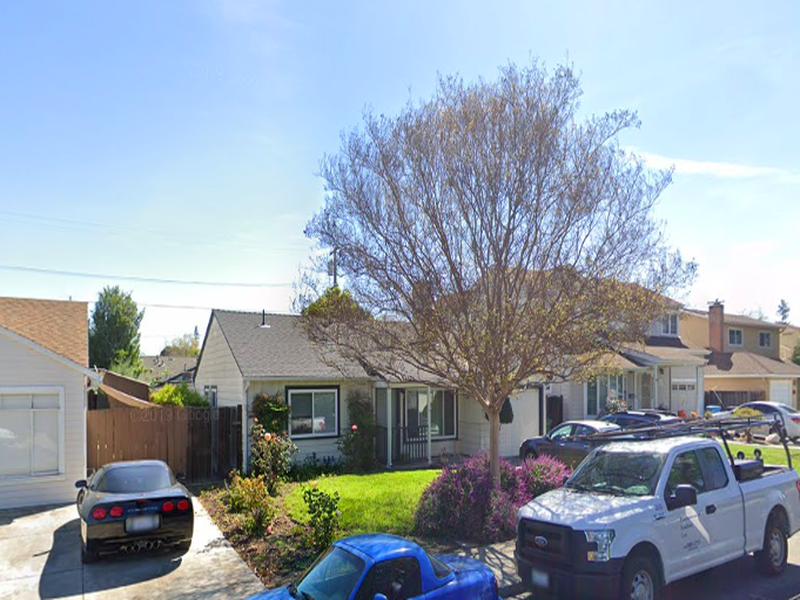tree: (290, 48, 698, 511)
